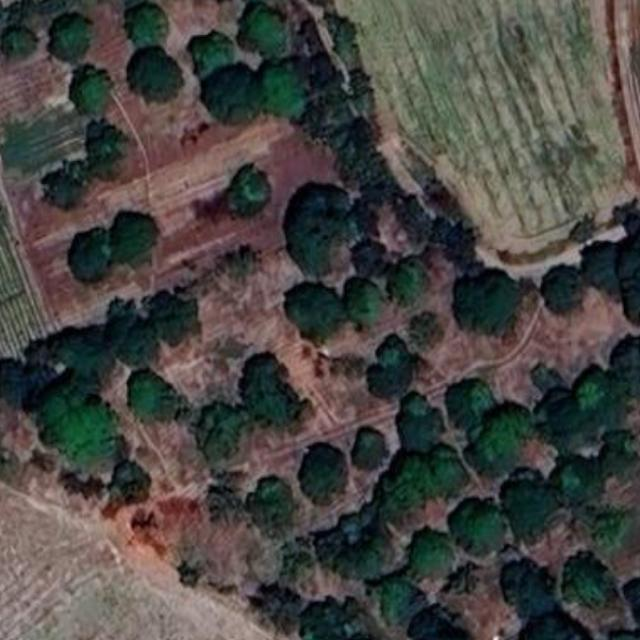Tree: (532, 338, 640, 466), (377, 448, 465, 525), (282, 184, 352, 278), (40, 388, 118, 464), (467, 399, 536, 483), (453, 266, 524, 340), (502, 462, 562, 545), (28, 322, 104, 386), (245, 352, 307, 428), (318, 523, 394, 584), (204, 57, 263, 134), (279, 275, 344, 344), (255, 48, 308, 122), (297, 441, 354, 507), (393, 393, 448, 460), (105, 307, 157, 373), (449, 499, 508, 557), (564, 554, 617, 618), (103, 205, 159, 264), (550, 444, 598, 511), (250, 471, 299, 536), (82, 118, 132, 181), (198, 396, 245, 462), (131, 45, 183, 104), (227, 160, 276, 222), (363, 339, 416, 395), (63, 224, 114, 282), (444, 376, 497, 429), (410, 526, 461, 580), (581, 240, 627, 299), (240, 2, 290, 56), (590, 424, 636, 482), (121, 4, 172, 54), (42, 160, 88, 215), (50, 12, 96, 66), (155, 290, 199, 346), (616, 228, 640, 328), (339, 274, 383, 325), (543, 264, 585, 317), (189, 29, 234, 77), (350, 422, 392, 472), (72, 66, 116, 113), (378, 578, 422, 624), (388, 258, 426, 310), (132, 373, 166, 421)
